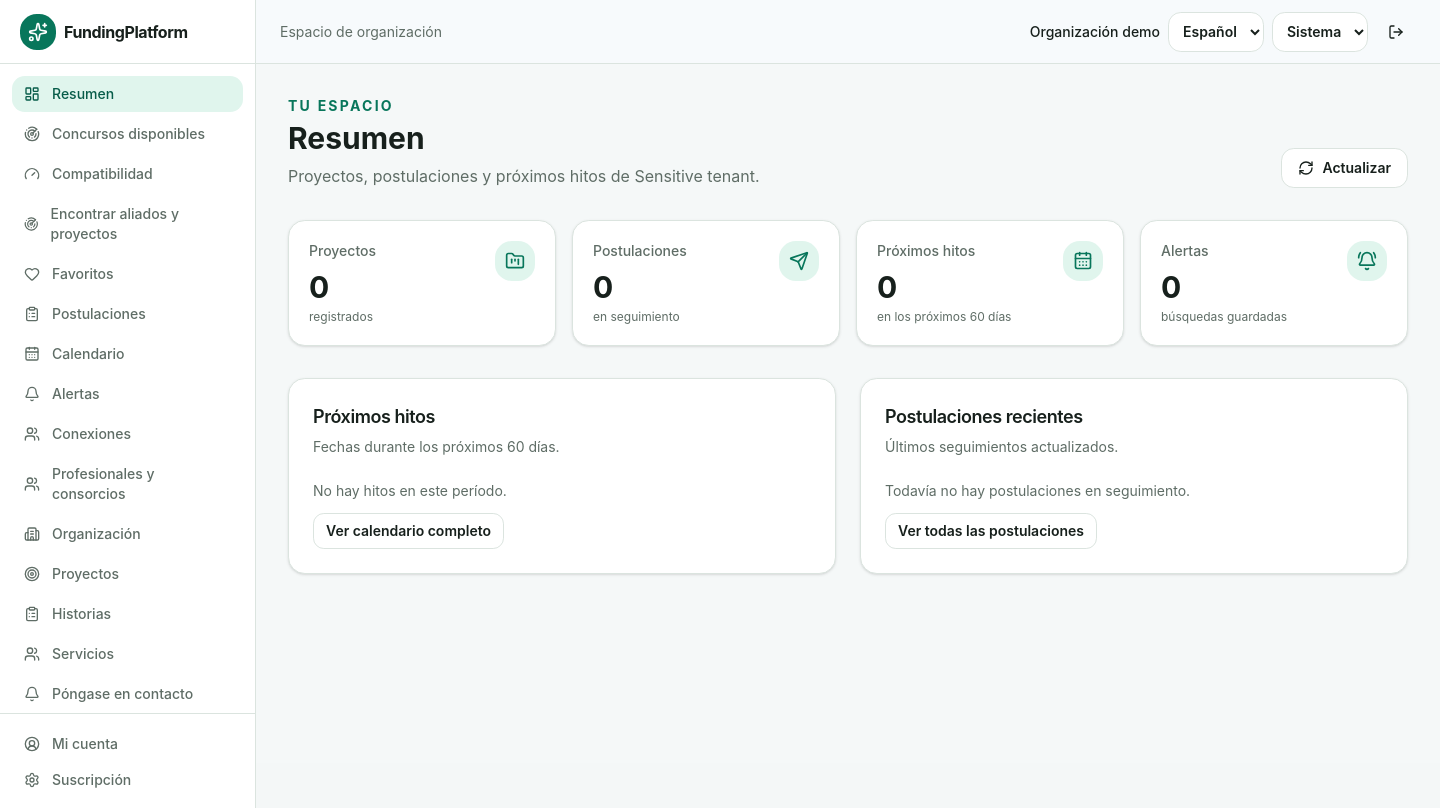
Test: aplicación › limpia datos cacheados incluso si falla la revocación de logout
Click the button named "Cerrar sesión".
click(1396, 32)  # box [1376,12,1416,52]
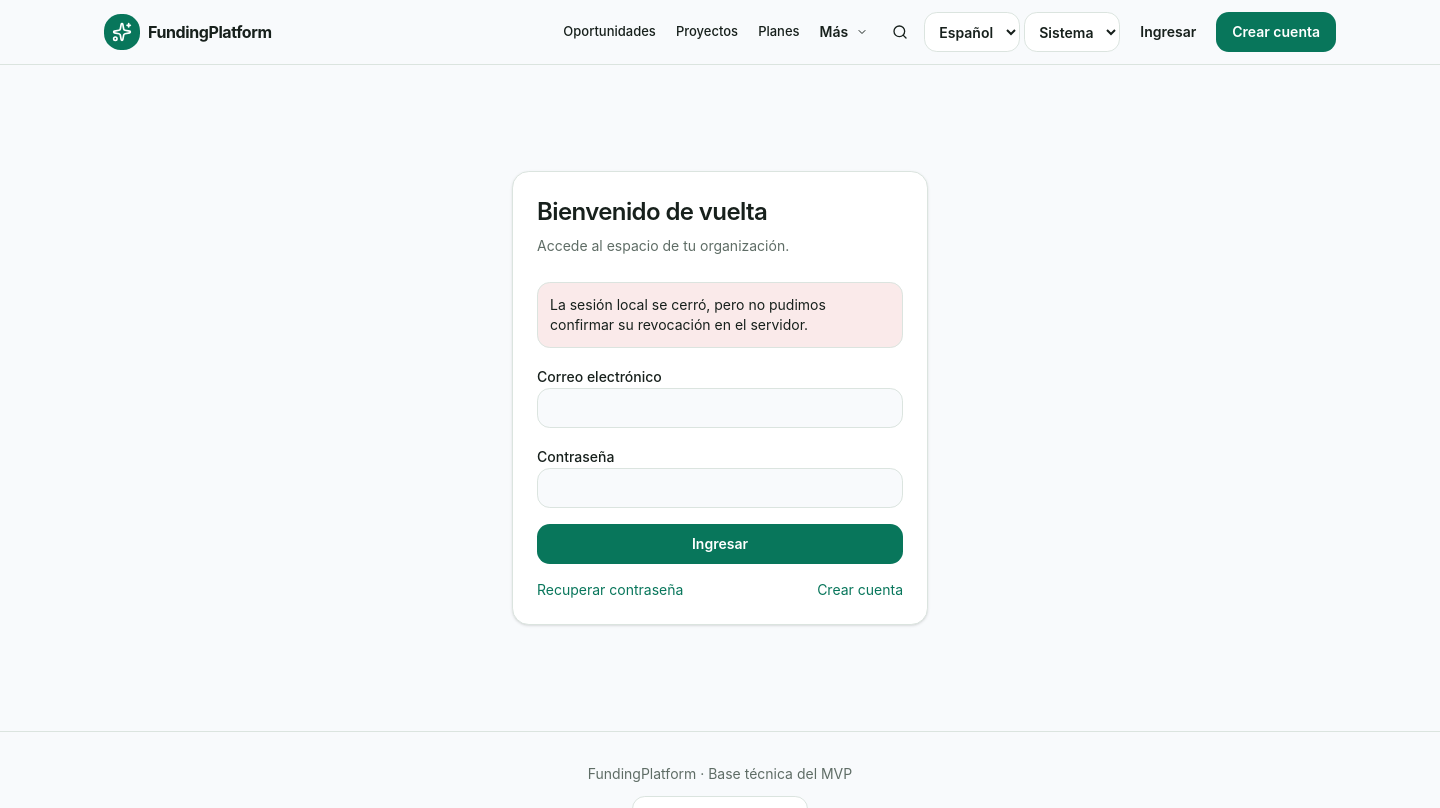
Expected: the message shows "La sesión local se cerró", [550,296,826,333]
